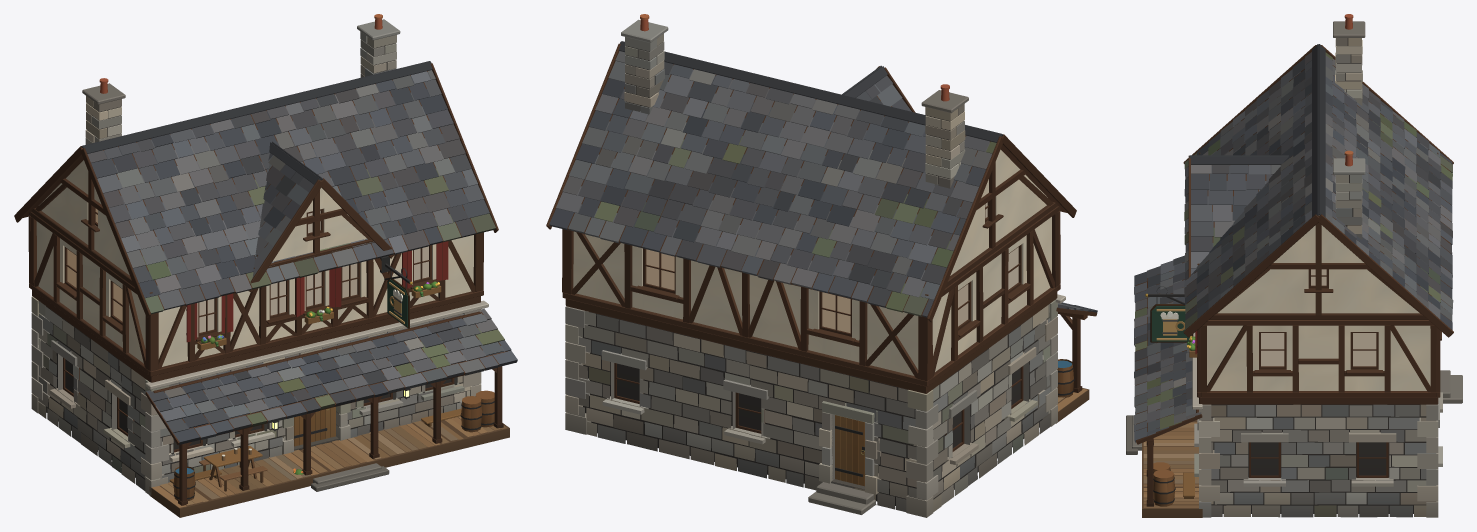
File: village_inn.glb
The picture shows the model from 3 angles, left to right: view 1: azimuth 30°, elevation 25°; view 2: azimuth 150°, elevation 25°; view 3: azimuth 270°, elevation 25°; orthographic projection. The views are drawn at different scales.
Visible parts, largest first — view 1: VillageInn; view 2: VillageInn; view 3: VillageInn.
Part boxes in pixels (x1=…): VillageInn: x1=14, y1=14, x2=517, y2=517; VillageInn: x1=546, y1=14, x2=1097, y2=517; VillageInn: x1=1126, y1=14, x2=1462, y2=517.
Bounding box in the file's own units: 11.97 × 11.62 × 10.
